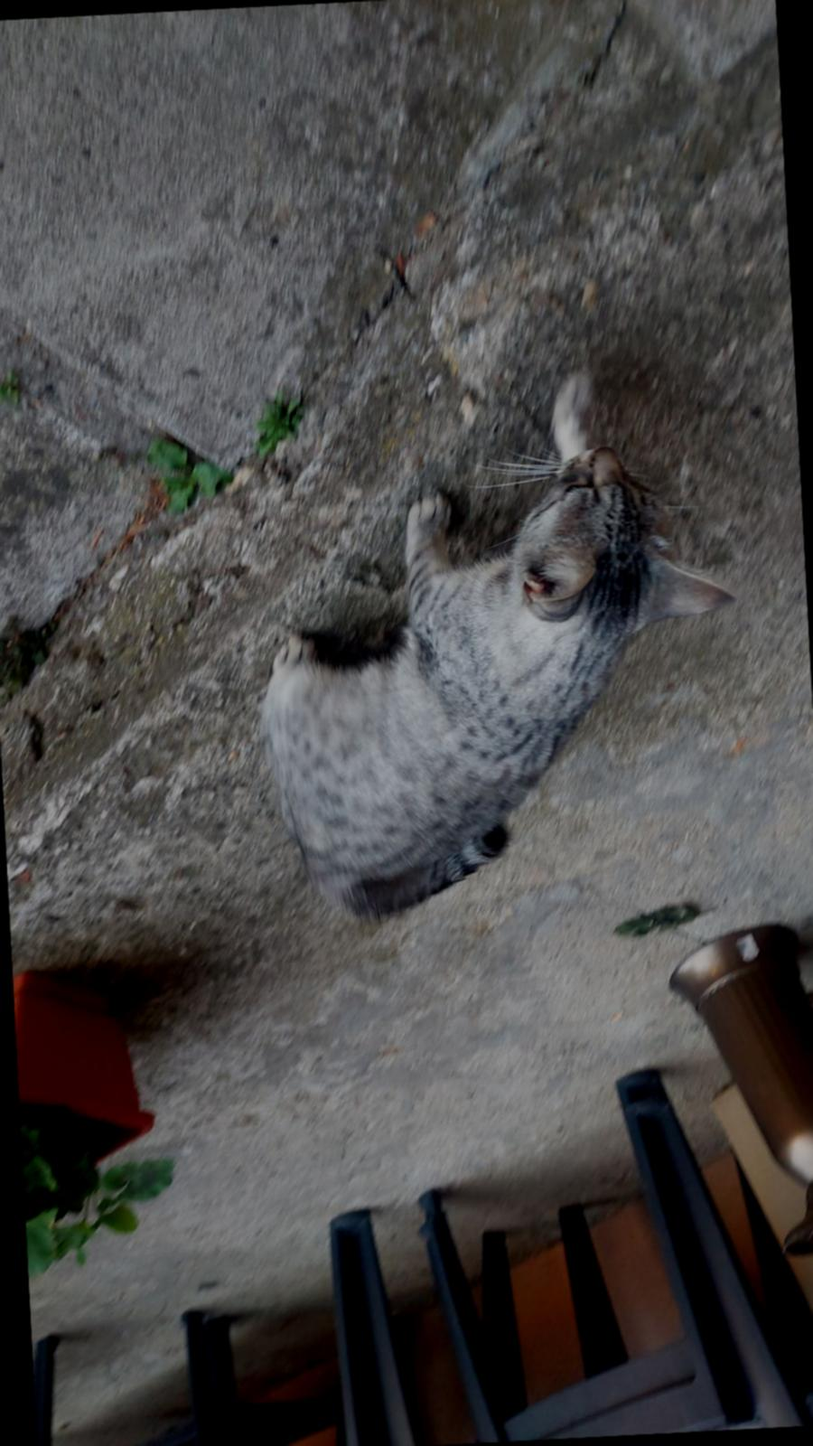macka: (243, 360, 752, 928)
